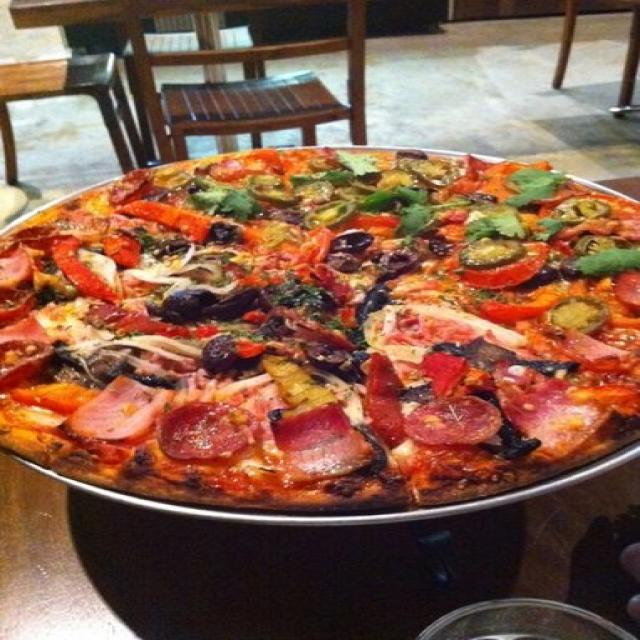Ham: (82, 377, 158, 437), (282, 437, 372, 472), (564, 332, 614, 360), (2, 248, 30, 286)
Jalapenoes: (550, 300, 606, 332), (462, 238, 524, 264), (464, 240, 524, 266), (404, 158, 457, 182), (304, 204, 349, 228), (566, 201, 612, 219), (577, 232, 614, 254), (254, 178, 286, 199), (300, 186, 335, 199), (383, 171, 410, 186)
Olives: (171, 289, 265, 318), (330, 232, 369, 274), (310, 346, 360, 374), (380, 246, 411, 279), (210, 336, 233, 371), (213, 224, 238, 247), (370, 285, 384, 317)
Pepperoni: (162, 406, 246, 457), (269, 401, 350, 442), (417, 399, 499, 439), (0, 346, 49, 380), (112, 172, 156, 204), (205, 159, 244, 177)
Pizza: (0, 145, 640, 518)
Red Pepper: (91, 301, 212, 337), (47, 240, 114, 299), (119, 202, 208, 242), (469, 256, 556, 290), (371, 353, 404, 442), (477, 299, 547, 321), (424, 351, 458, 394), (0, 300, 32, 322)
Rucola: (364, 191, 462, 232), (268, 277, 342, 321), (512, 160, 560, 202), (199, 184, 255, 216), (472, 206, 522, 237), (574, 253, 640, 272)
